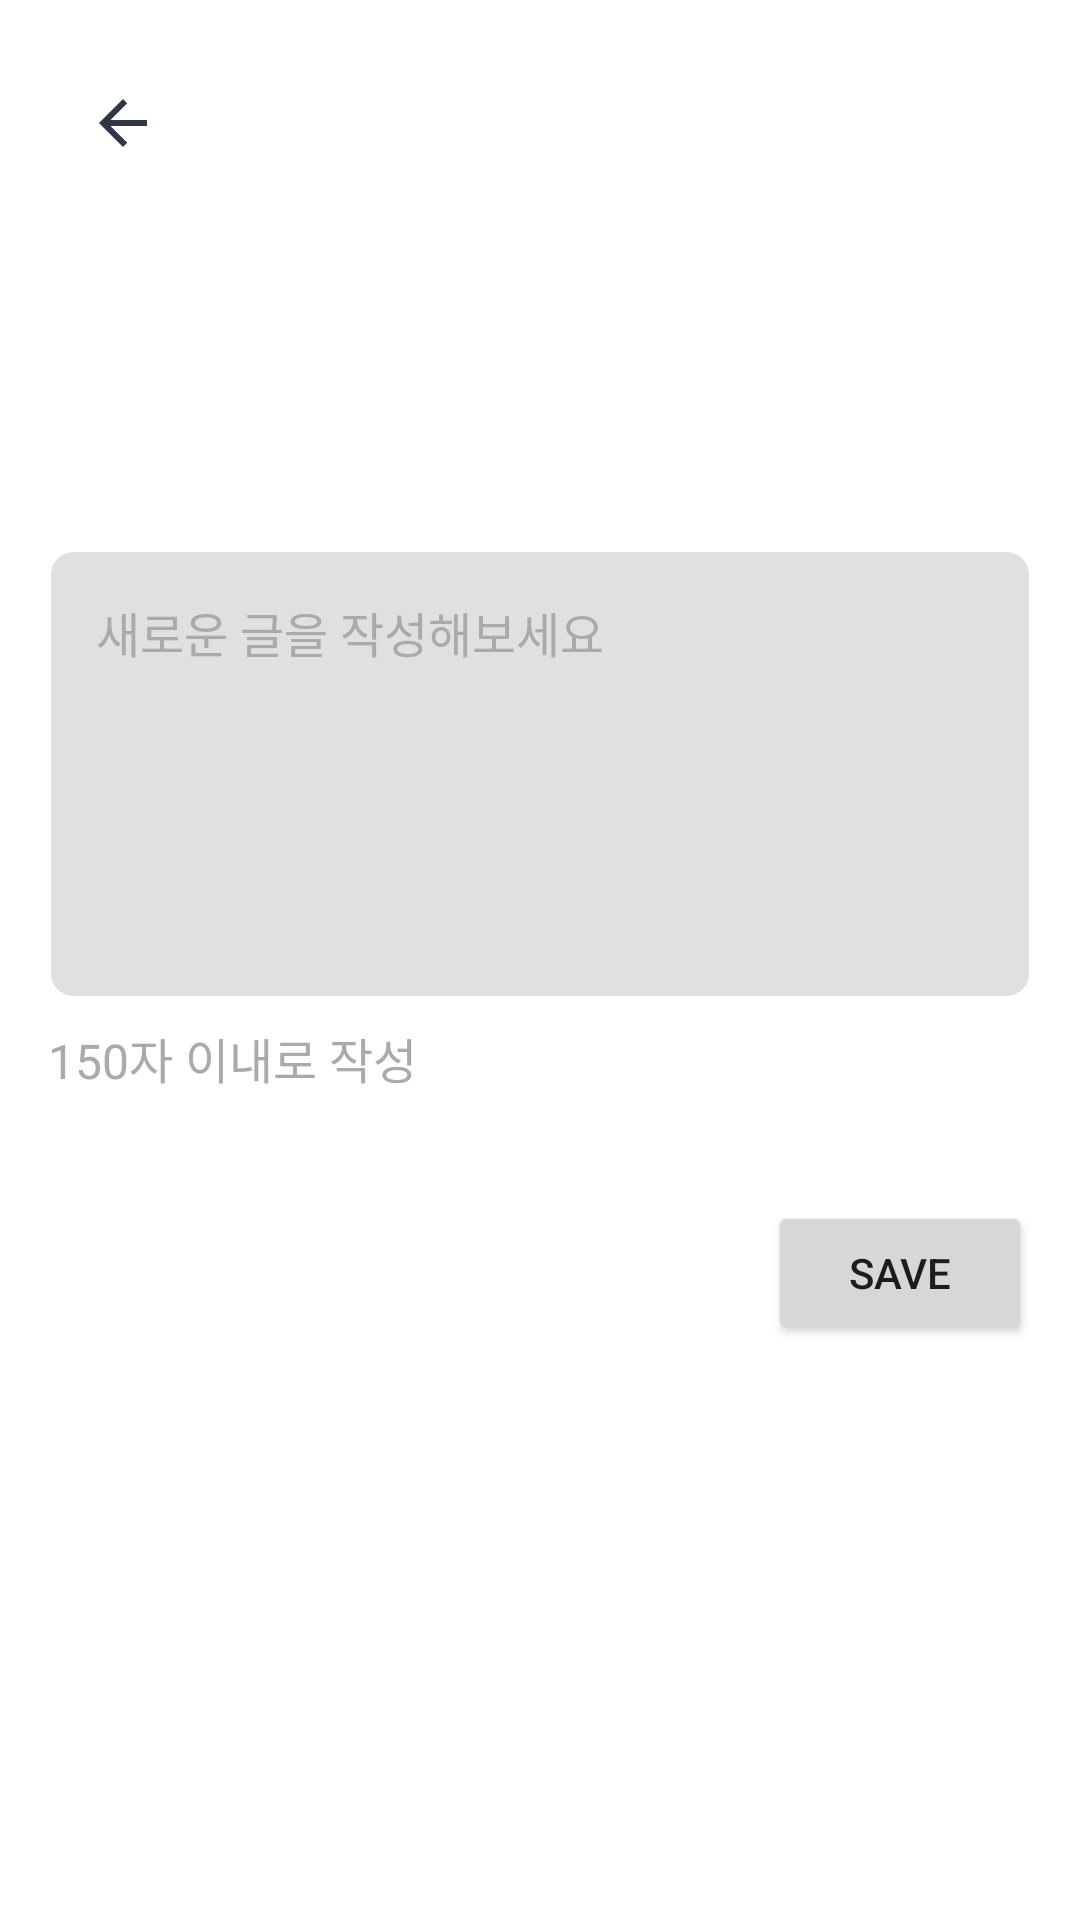

Screen size 1080px×1920px. Icon name, then its center in pixels as [x,y]:
Back: [123,123]
